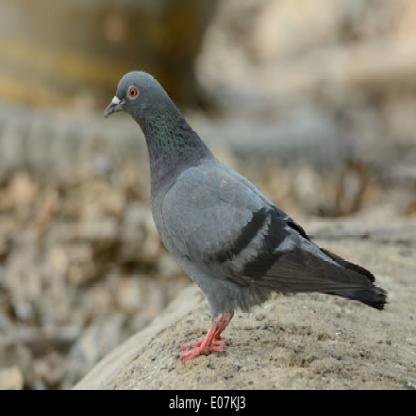Rock Pigeon: (105, 71, 392, 318)
